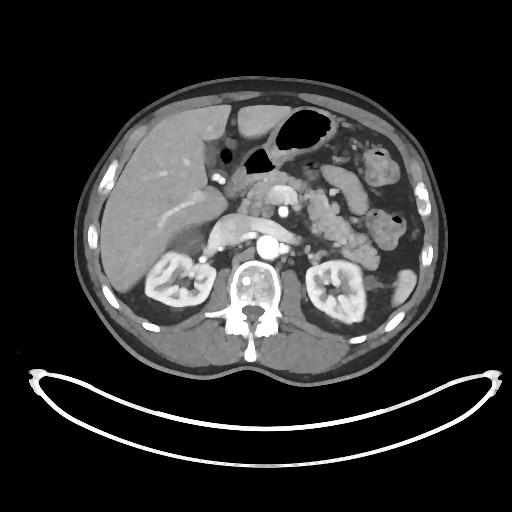Lesion: (362, 273, 381, 293)
